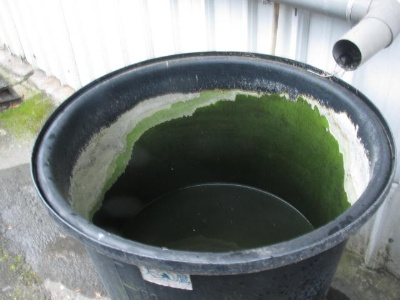bucket: (29, 50, 397, 299)
